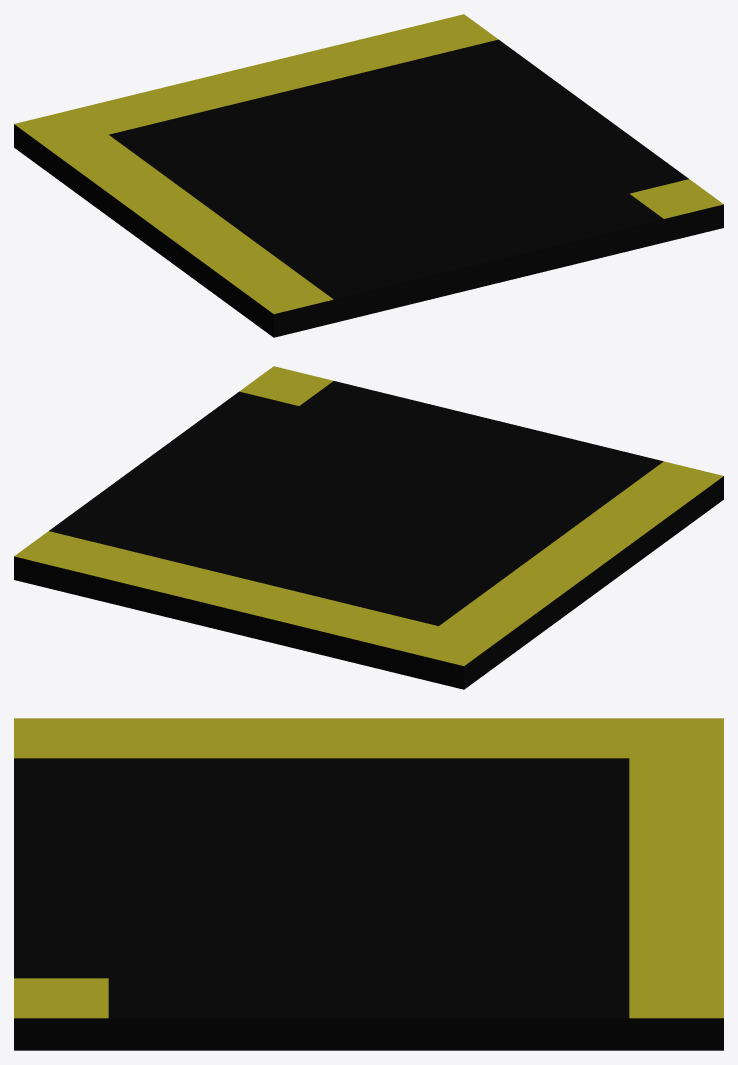
Rendered from turn_road_broken.fbx.
3 renders of one model, top to bottom at view 1: azimuth 30°, elevation 25°; view 2: azimuth 150°, elevation 25°; view 3: azimuth 270°, elevation 25°, orthographic. The views are drawn at different scales.
Parts seen in each view (by area): view 1: Cube.001; view 2: Cube.001; view 3: Cube.001.
Part boxes in pixels (bbox=[...]): Cube.001: bbox=[14, 14, 723, 337]; Cube.001: bbox=[14, 366, 723, 689]; Cube.001: bbox=[14, 718, 723, 1050].
Size of the model in its own units: 200 by 10 by 200.
